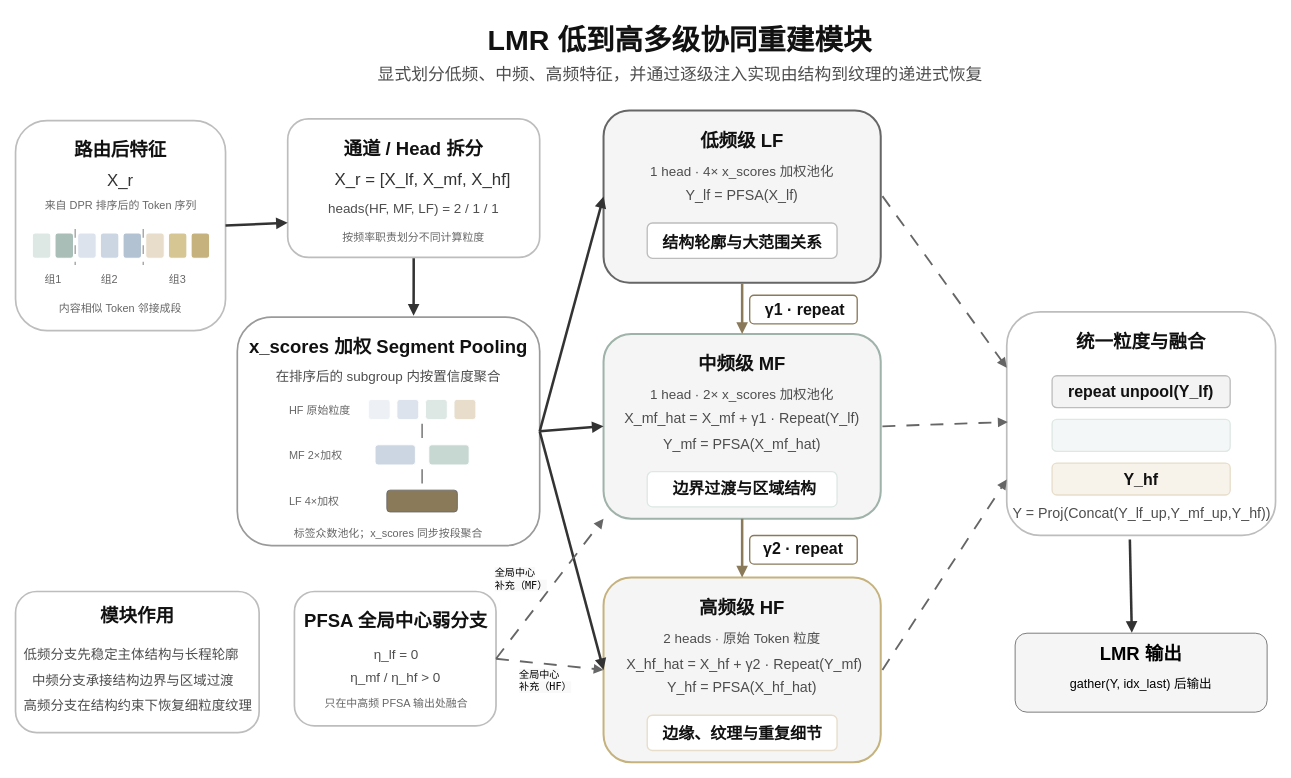
Image size: 1291x778. Some labels were removed from this diagram. Here are the shapes that lost their labels. From the top down, the centre of each, then its label:
At [1140,435]: "repeat unpool(Y_mf)".
At [421,500]: "段池化结果".
